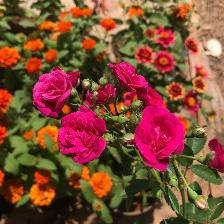rose: (134, 103, 188, 171), (57, 106, 113, 167), (30, 69, 81, 117)
